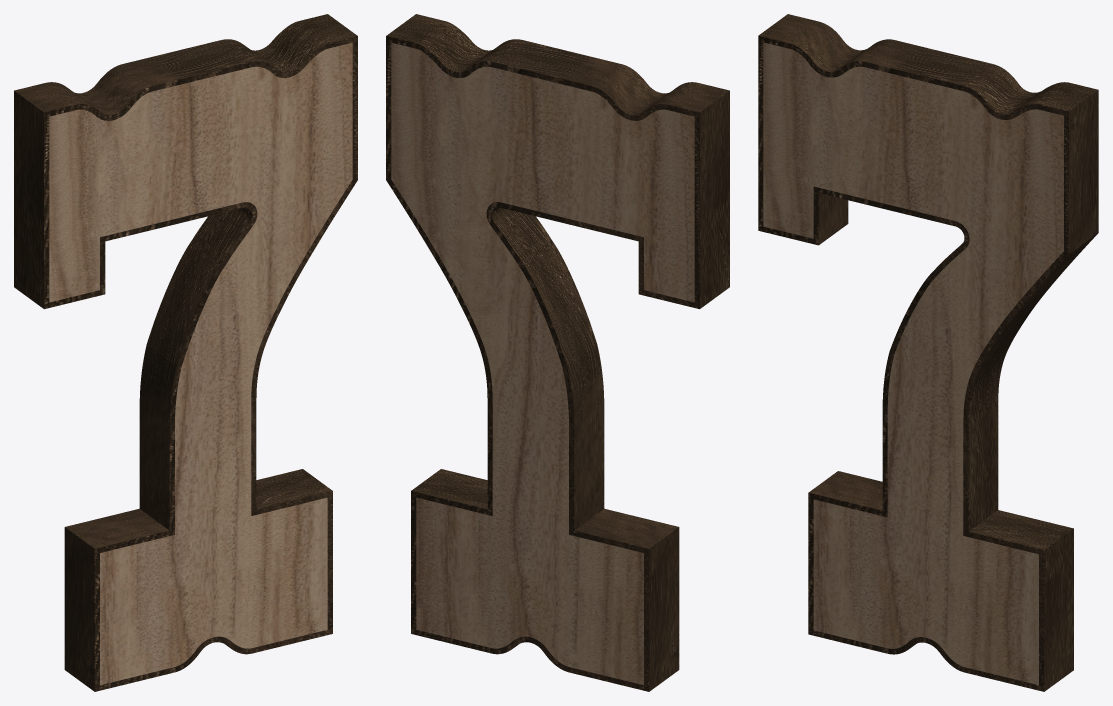
3 renders of one model, left to right at view 1: azimuth 30°, elevation 25°; view 2: azimuth 150°, elevation 25°; view 3: azimuth 330°, elevation 25°, orthographic.
Parts seen in each view (by area): view 1: 7, 7_outline; view 2: 7, 7_outline; view 3: 7, 7_outline.
Boxes of the visible parts, left/top/right/bottom form: 7: left=49, top=42, right=352, bottom=685; 7_outline: left=14, top=14, right=357, bottom=691; 7: left=391, top=42, right=694, bottom=685; 7_outline: left=386, top=14, right=729, bottom=691; 7: left=763, top=42, right=1063, bottom=685; 7_outline: left=758, top=14, right=1098, bottom=691.
Size of the model in its own units: 60.35 by 109 by 10.
2 materials, 2 textured.
